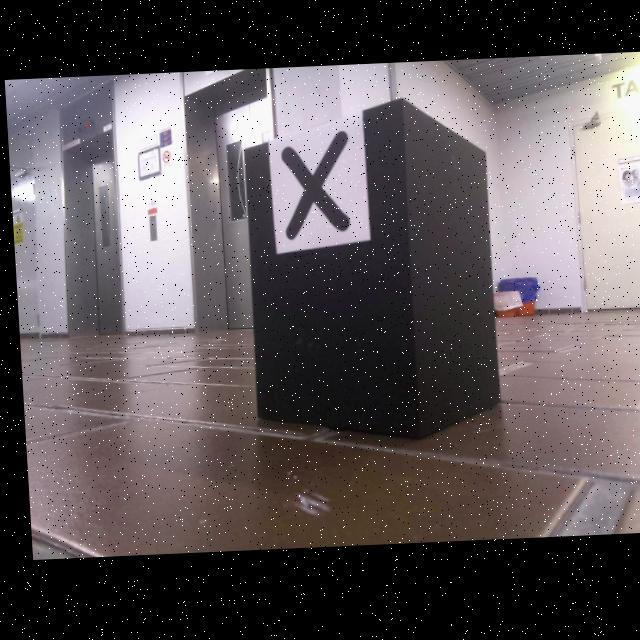X: (280, 134, 349, 244)
